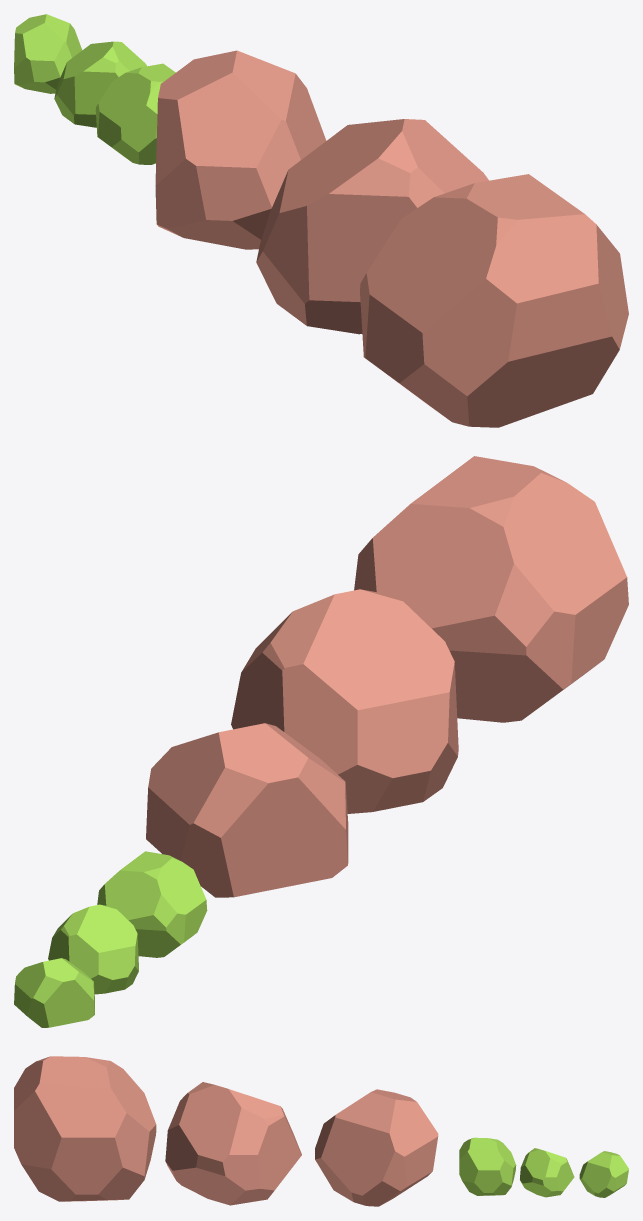
Rendered from Rocks.fbx.
3 renders of one model, top to bottom at view 1: azimuth 30°, elevation 25°; view 2: azimuth 150°, elevation 25°; view 3: azimuth 270°, elevation 25°, orthographic. The views are drawn at different scales.
Parts seen in each view (by area): view 1: Rock.001, Rock.002, Rock.003, Rock.004, Rock.005, Rock.006; view 2: Rock.001, Rock.002, Rock.003, Rock.004, Rock.005, Rock.006; view 3: Rock.001, Rock.002, Rock.003, Rock.004, Rock.005, Rock.006.
Part boxes in pixels (x1=…): Rock.001: x1=360, y1=174, x2=628, y2=427; Rock.002: x1=256, y1=119, x2=488, y2=334; Rock.003: x1=155, y1=50, x2=326, y2=249; Rock.004: x1=95, y1=63, x2=175, y2=164; Rock.005: x1=54, y1=41, x2=146, y2=127; Rock.006: x1=14, y1=14, x2=82, y2=93; Rock.001: x1=354, y1=456, x2=628, y2=722; Rock.002: x1=231, y1=589, x2=458, y2=813; Rock.003: x1=146, y1=723, x2=348, y2=897; Rock.004: x1=97, y1=851, x2=207, y2=957; Rock.005: x1=48, y1=904, x2=138, y2=994; Rock.006: x1=14, y1=958, x2=94, y2=1027; Rock.001: x1=14, y1=1056, x2=156, y2=1201; Rock.002: x1=165, y1=1082, x2=301, y2=1205; Rock.003: x1=315, y1=1089, x2=438, y2=1206; Rock.004: x1=459, y1=1137, x2=516, y2=1195; Rock.005: x1=520, y1=1148, x2=574, y2=1197; Rock.006: x1=579, y1=1151, x2=628, y2=1197.
Bounding box in the file's own units: 161 × 149 × 646.
